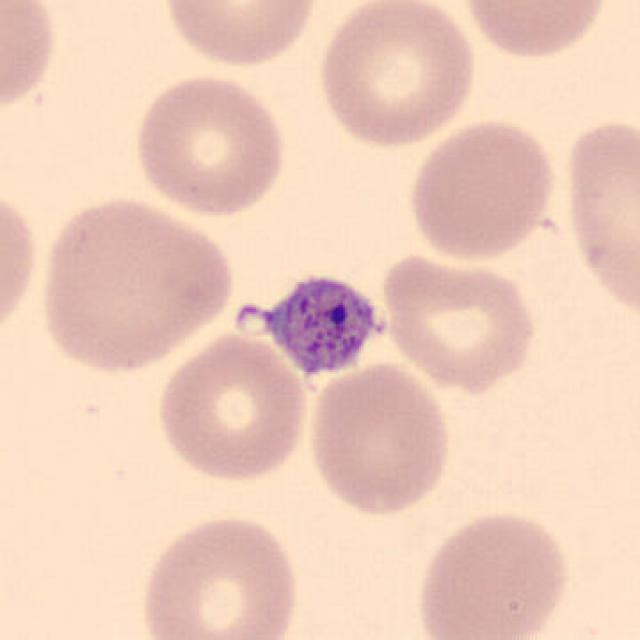Platelets: (229, 264, 393, 388)
RBC: (34, 192, 238, 376), (311, 0, 482, 152), (151, 328, 313, 487), (302, 358, 455, 520), (128, 68, 292, 218), (377, 247, 540, 395), (404, 114, 562, 264), (135, 509, 304, 640), (412, 506, 574, 640), (556, 109, 640, 326), (156, 0, 322, 71), (456, 0, 613, 63), (0, 0, 62, 123), (0, 180, 43, 349)
